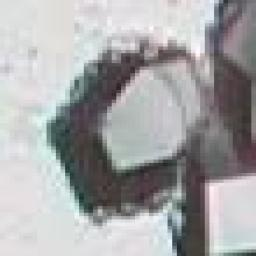crystals: (39, 45, 210, 212)
